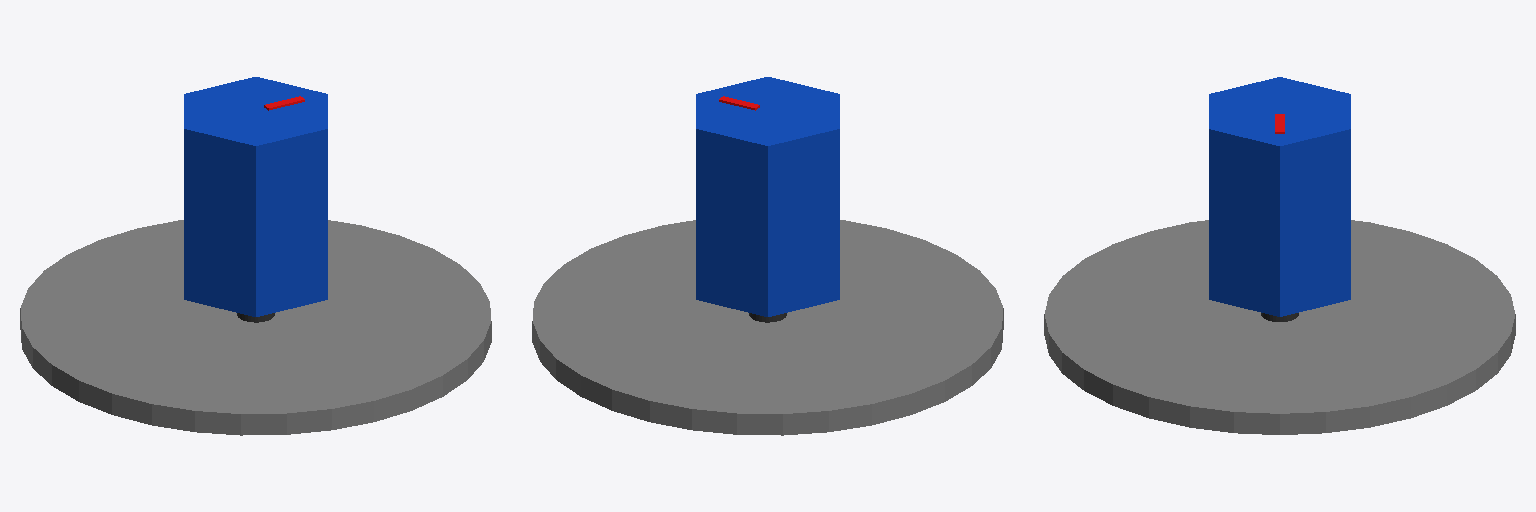
robot.urdf — vavledriver:
<?xml version="1.0"?>
<!-- Fixed-axis valve task. The rotating handle is a regular hexagonal prism:
     circumradius 35 mm, across-flats 60.62 mm, height 80 mm.
     Mesh hex_valve.stl is authored at 30 mm; XY scale 7/6 maps it to 35 mm. -->
<robot name="vavledriver">
  <link name="base">
    <visual>
      <origin xyz="0 0 0"/>
      <geometry><cylinder radius="0.1" length="0.01"/></geometry>
      <material name="base_gray"><color rgba="0.55 0.55 0.55 1"/></material>
    </visual>
    <collision>
      <origin xyz="0 0 0"/>
      <geometry><cylinder radius="0.1" length="0.01"/></geometry>
    </collision>
    <inertial>
      <mass value="10.0"/>
      <origin xyz="0 0 0"/>
      <inertia ixx="0.02508" ixy="0" ixz="0" iyy="0.02508" iyz="0" izz="0.05"/>
    </inertial>
  </link>

  <link name="shaft">
    <visual>
      <origin xyz="0 0 0.01"/>
      <geometry><cylinder radius="0.008" length="0.02"/></geometry>
      <material name="shaft_dark"><color rgba="0.25 0.25 0.25 1"/></material>
    </visual>
    <collision>
      <origin xyz="0 0 0.01"/>
      <geometry><cylinder radius="0.008" length="0.02"/></geometry>
    </collision>
    <inertial>
      <mass value="0.012"/>
      <origin xyz="0 0 0.01"/>
      <inertia ixx="0.000000528" ixy="0" ixz="0" iyy="0.000000528" iyz="0" izz="0.000000384"/>
    </inertial>
  </link>

  <link name="valve">
    <visual>
      <origin xyz="0 0 0.04"/>
      <geometry><mesh filename="hex_valve.stl" scale="1.1666666666666667 1.1666666666666667 1.0"/></geometry>
      <material name="valve_blue"><color rgba="0.10 0.35 0.80 1"/></material>
    </visual>
    <collision>
      <origin xyz="0 0 0.04"/>
      <geometry><mesh filename="hex_valve.stl" scale="1.1666666666666667 1.1666666666666667 1.0"/></geometry>
    </collision>
    <inertial>
      <mass value="0.05"/>
      <origin xyz="0 0 0.04"/>
      <inertia ixx="0.000036042" ixy="0" ixz="0" iyy="0.000036042" iyz="0" izz="0.000018750"/>
    </inertial>
    <!-- Asymmetric visual marker makes rotation easy to inspect in the viewer. -->
    <visual>
      <origin xyz="0.014 0 0.0805"/>
      <geometry><box size="0.018 0.004 0.001"/></geometry>
      <material name="marker_red"><color rgba="0.95 0.10 0.10 1"/></material>
    </visual>
  </link>

  <joint name="base_to_shaft" type="fixed">
    <parent link="base"/>
    <child link="shaft"/>
    <origin xyz="0 0 0" rpy="0 0 0"/>
  </joint>

  <joint name="valve_to_shaft" type="revolute">
    <parent link="shaft"/>
    <child link="valve"/>
    <origin xyz="0 0 0.02" rpy="0 0 0"/>
    <axis xyz="0 0 -1"/>
    <dynamics friction="0.2"/>
    <limit lower="0.0" upper="628.3185" effort="2.0" velocity="6.2832"/>
  </joint>
</robot>

--- Facts derived from the render (not from the file) ---
Views: 3 orthographic renders of the robot side by side, from view 1: azimuth 30°, elevation 25°; view 2: azimuth 150°, elevation 25°; view 3: azimuth 270°, elevation 25°.
Model vavledriver with 3 links and 2 joints (1 revolute, 1 fixed), rooted at base, posed all joints at 0.
Visible links, largest first — view 1: base, valve; view 2: base, valve; view 3: base, valve.
Link boxes in pixels (x1,y1,x2,y2): base: (20, 220, 491, 435); valve: (184, 77, 327, 316); base: (532, 220, 1003, 435); valve: (696, 77, 839, 316); base: (1044, 220, 1515, 434); valve: (1209, 77, 1350, 316).
Size in the robot's own frame: 0.2 by 0.2 by 0.106 metres.
1 mesh visuals loaded from 1 distinct referenced files (1 ASCII STL).
